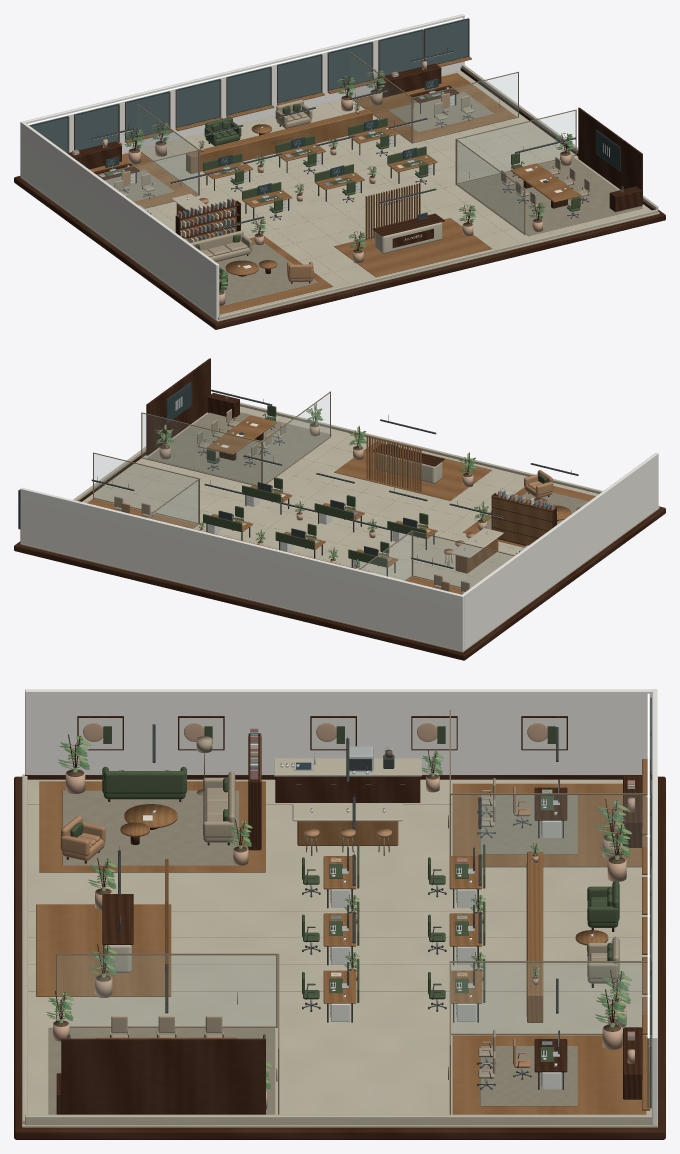
The model's file is headquarters-v2.glb.
3 renders of one model, top to bottom at view 1: azimuth 30°, elevation 25°; view 2: azimuth 150°, elevation 25°; view 3: azimuth 270°, elevation 25°, orthographic. The views are drawn at different scales.
Visible parts, largest first — view 1: Static PBR batch / 03 Honed travertine, Static PBR batch / 20 Low iron glass, Static PBR batch / 01 Natural white oak, Static PBR batch / 04 Mineral plaster, Static PBR batch / 18 Screen glass, Static PBR batch / 02 Smoked walnut, Static PBR batch / 12 Sand wool rug, Static PBR batch / 10 Moss wool, Static PBR batch / 09 Oatmeal boucle, Static PBR batch / 06 Aged bronze, Static PBR batch / 07 Graphite steel, Static PBR batch / 13 Terracotta ceramic (+5 smaller); view 2: Static PBR batch / 04 Mineral plaster, Static PBR batch / 03 Honed travertine, Static PBR batch / 20 Low iron glass, Static PBR batch / 01 Natural white oak, Static PBR batch / 02 Smoked walnut, Static PBR batch / 12 Sand wool rug, Static PBR batch / 10 Moss wool, Static PBR batch / 07 Graphite steel, Static PBR batch / 06 Aged bronze, Static PBR batch / 09 Oatmeal boucle, Static PBR batch / 11 Cognac leather, Static PBR batch / 15 Mature leaf (+4 smaller); view 3: Static PBR batch / 03 Honed travertine, Static PBR batch / 02 Smoked walnut, Static PBR batch / 01 Natural white oak, Static PBR batch / 04 Mineral plaster, Static PBR batch / 20 Low iron glass, Static PBR batch / 12 Sand wool rug, Static PBR batch / 10 Moss wool, Static PBR batch / 09 Oatmeal boucle, Static PBR batch / 13 Terracotta ceramic, Static PBR batch / 19 Paper and linen art, Static PBR batch / 07 Graphite steel, Static PBR batch / 06 Aged bronze (+8 smaller).
Part boxes in pixels (x1,y1,x2,y2): Static PBR batch / 03 Honed travertine: (20, 64, 659, 321); Static PBR batch / 20 Low iron glass: (31, 20, 623, 232); Static PBR batch / 01 Natural white oak: (89, 57, 580, 314); Static PBR batch / 04 Mineral plaster: (20, 14, 464, 319); Static PBR batch / 18 Screen glass: (29, 18, 618, 194); Static PBR batch / 02 Smoked walnut: (14, 63, 665, 329); Static PBR batch / 12 Sand wool rug: (104, 91, 642, 305); Static PBR batch / 10 Moss wool: (105, 91, 580, 289); Static PBR batch / 09 Oatmeal boucle: (114, 95, 590, 261); Static PBR batch / 06 Aged bronze: (68, 19, 576, 234); Static PBR batch / 07 Graphite steel: (91, 47, 620, 229); Static PBR batch / 13 Terracotta ceramic: (103, 61, 571, 305); Static PBR batch / 04 Mineral plaster: (20, 452, 658, 651); Static PBR batch / 03 Honed travertine: (20, 402, 659, 652); Static PBR batch / 20 Low iron glass: (94, 393, 513, 587); Static PBR batch / 01 Natural white oak: (18, 415, 595, 594); Static PBR batch / 02 Smoked walnut: (14, 358, 665, 660); Static PBR batch / 12 Sand wool rug: (85, 409, 588, 579); Static PBR batch / 10 Moss wool: (203, 405, 546, 567); Static PBR batch / 07 Graphite steel: (91, 382, 578, 591); Static PBR batch / 06 Aged bronze: (19, 391, 514, 587); Static PBR batch / 09 Oatmeal boucle: (114, 409, 580, 593); Static PBR batch / 11 Cognac leather: (121, 470, 553, 591); Static PBR batch / 15 Mature leaf: (155, 407, 490, 566); Static PBR batch / 03 Honed travertine: (22, 758, 657, 1127); Static PBR batch / 02 Smoked walnut: (14, 716, 665, 1139); Static PBR batch / 01 Natural white oak: (36, 733, 650, 1114); Static PBR batch / 04 Mineral plaster: (25, 689, 657, 1125); Static PBR batch / 20 Low iron glass: (57, 747, 649, 1046); Static PBR batch / 12 Sand wool rug: (28, 790, 641, 1114); Static PBR batch / 10 Moss wool: (67, 726, 619, 1061); Static PBR batch / 09 Oatmeal boucle: (109, 736, 619, 1078); Static PBR batch / 13 Terracotta ceramic: (53, 722, 634, 1109); Static PBR batch / 19 Paper and linen art: (78, 718, 566, 1046); Static PBR batch / 07 Graphite steel: (110, 724, 563, 1089); Static PBR batch / 06 Aged bronze: (56, 710, 651, 1114).
Bounding box in the file's own units: 26.71 × 3.55 × 20.7.
Materials: 26 (6 with a texture image).
